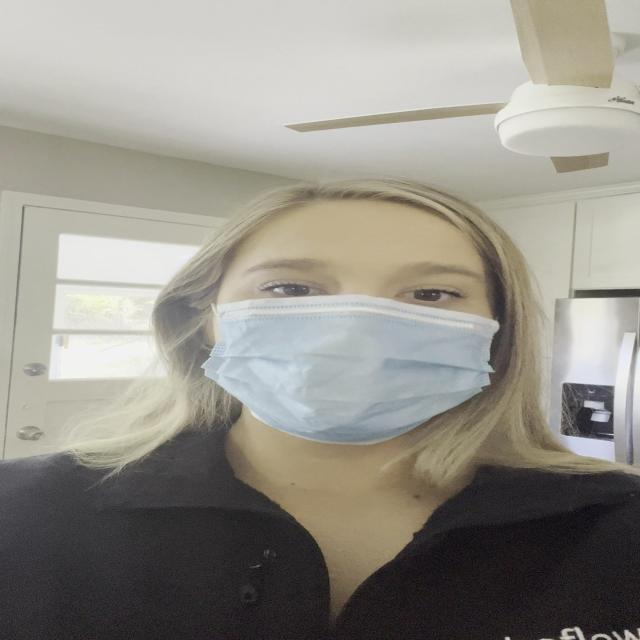no-helmet: (197, 198, 499, 445)
